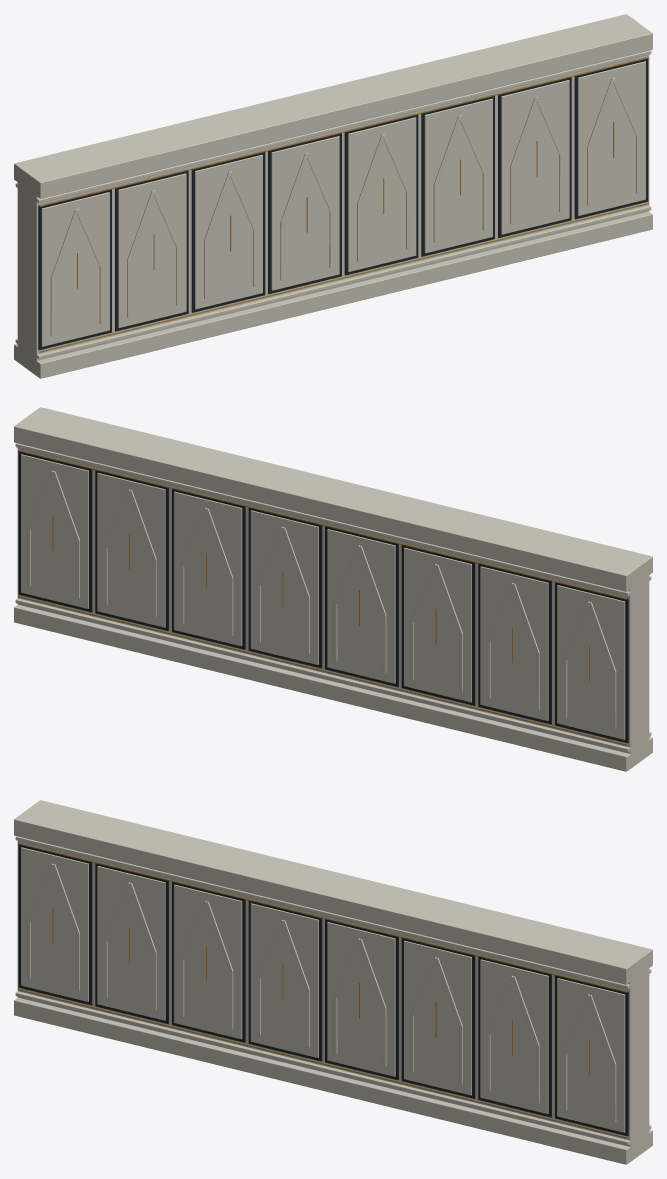
File: SM_Aurelion_KIT_Z02EndFrieze.fbx
3 views of the same model, one above another, from view 1: azimuth 30°, elevation 25°; view 2: azimuth 150°, elevation 25°; view 3: azimuth 330°, elevation 25° (orthographic).
Parts seen in each view (by area): view 1: SM_Aurelion_KIT_Z02EndFrieze; view 2: SM_Aurelion_KIT_Z02EndFrieze; view 3: SM_Aurelion_KIT_Z02EndFrieze.
Boxes of the visible parts, <box> form: SM_Aurelion_KIT_Z02EndFrieze: <box>14,14,652,378</box>; SM_Aurelion_KIT_Z02EndFrieze: <box>14,407,652,771</box>; SM_Aurelion_KIT_Z02EndFrieze: <box>14,800,652,1164</box>.
Bounding box in the file's own units: 1259 × 94.54 × 385.
